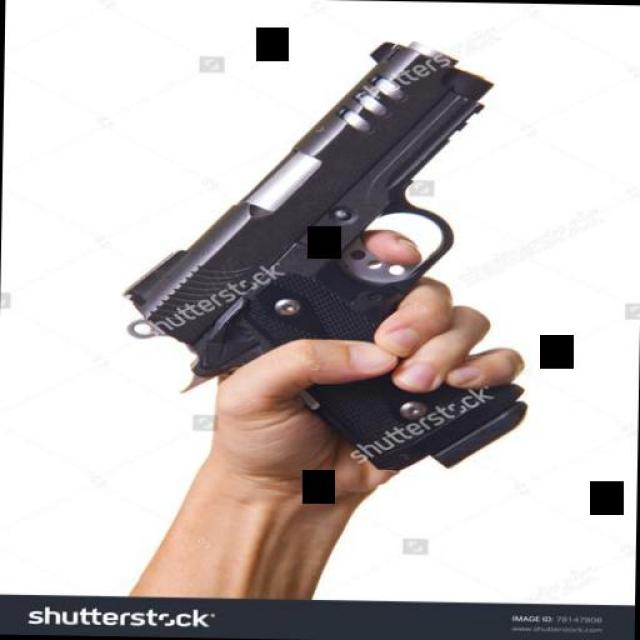gun: (122, 35, 532, 466)
